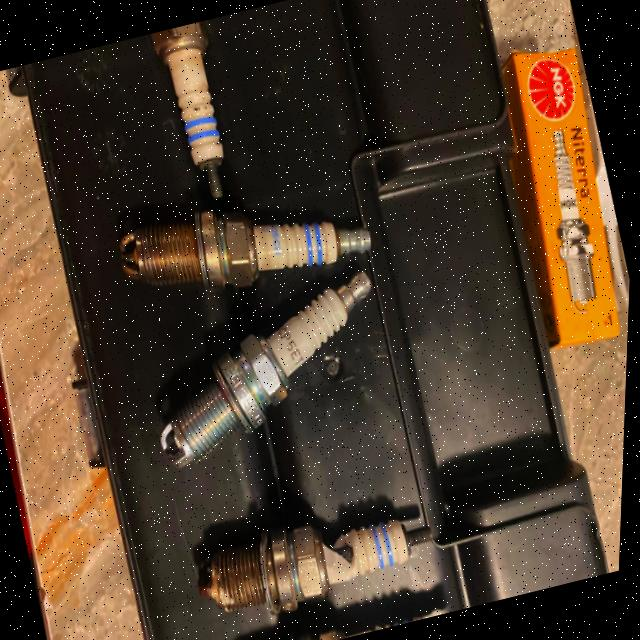damaged_spark-plug: (204, 504, 440, 610)
spark-plug: (153, 266, 377, 487), (120, 214, 377, 293)
